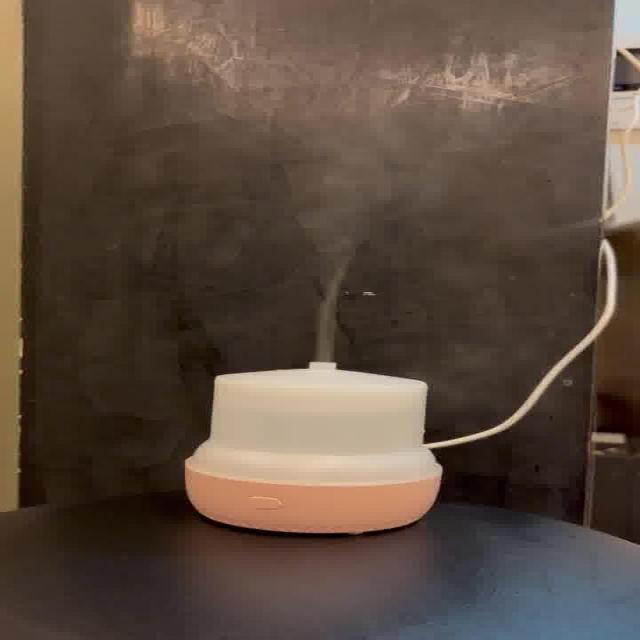fire: (290, 108, 446, 358)
